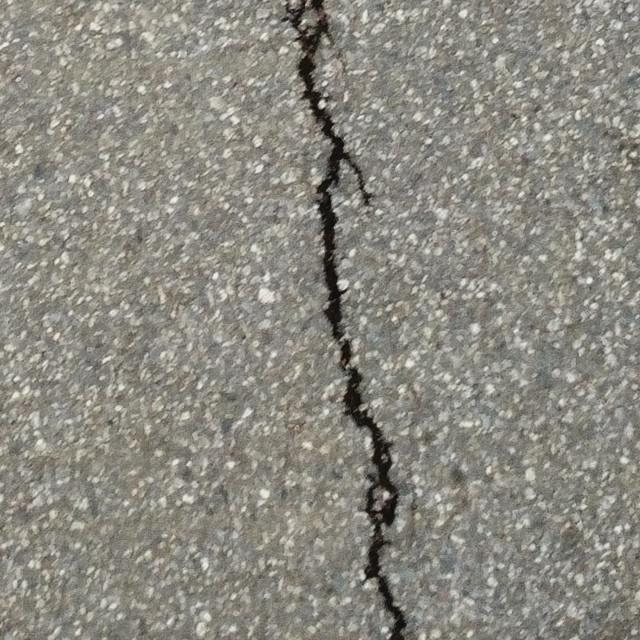LongitudinalCrack: (286, 1, 407, 639)
